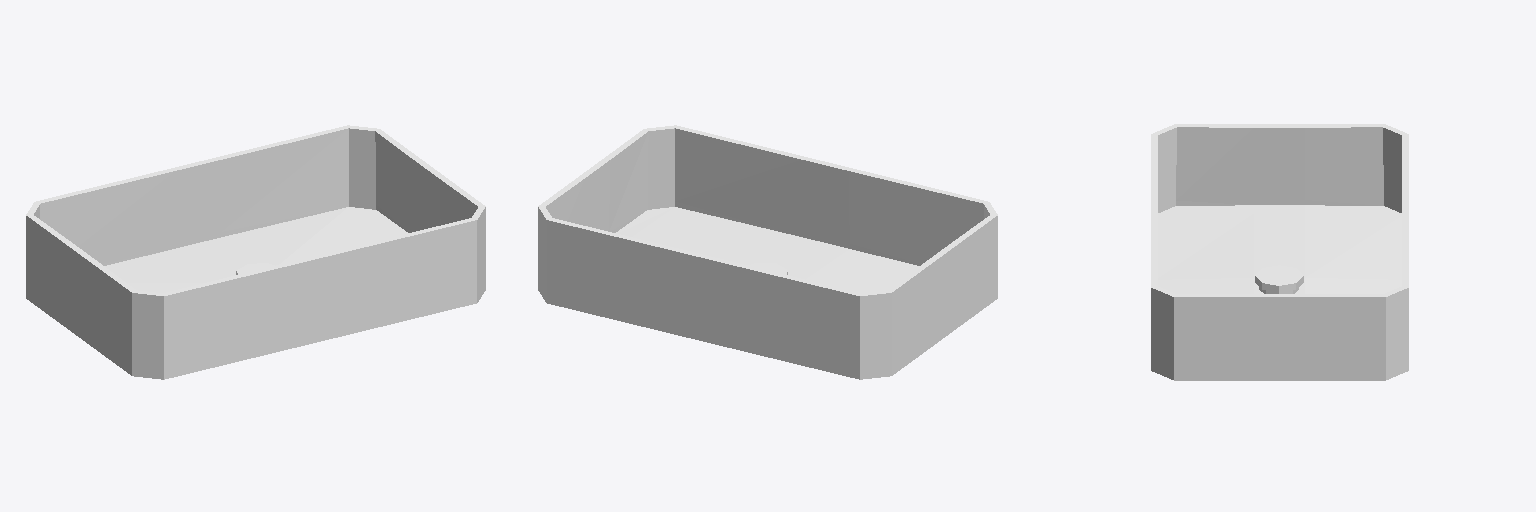
File: 869736_LAVABO.obj
3 views of the same model, side by side, from view 1: azimuth 30°, elevation 25°; view 2: azimuth 150°, elevation 25°; view 3: azimuth 270°, elevation 25° (orthographic).
Visible parts, largest first — view 1: Box014; view 2: Box014; view 3: Box014.
Boxes of the visible parts, <box> form: Box014: <box>26,125,485,379</box>; Box014: <box>538,125,997,379</box>; Box014: <box>1151,124,1408,380</box>.
Bounding box in the file's own units: 77.23 × 18.84 × 48.9.